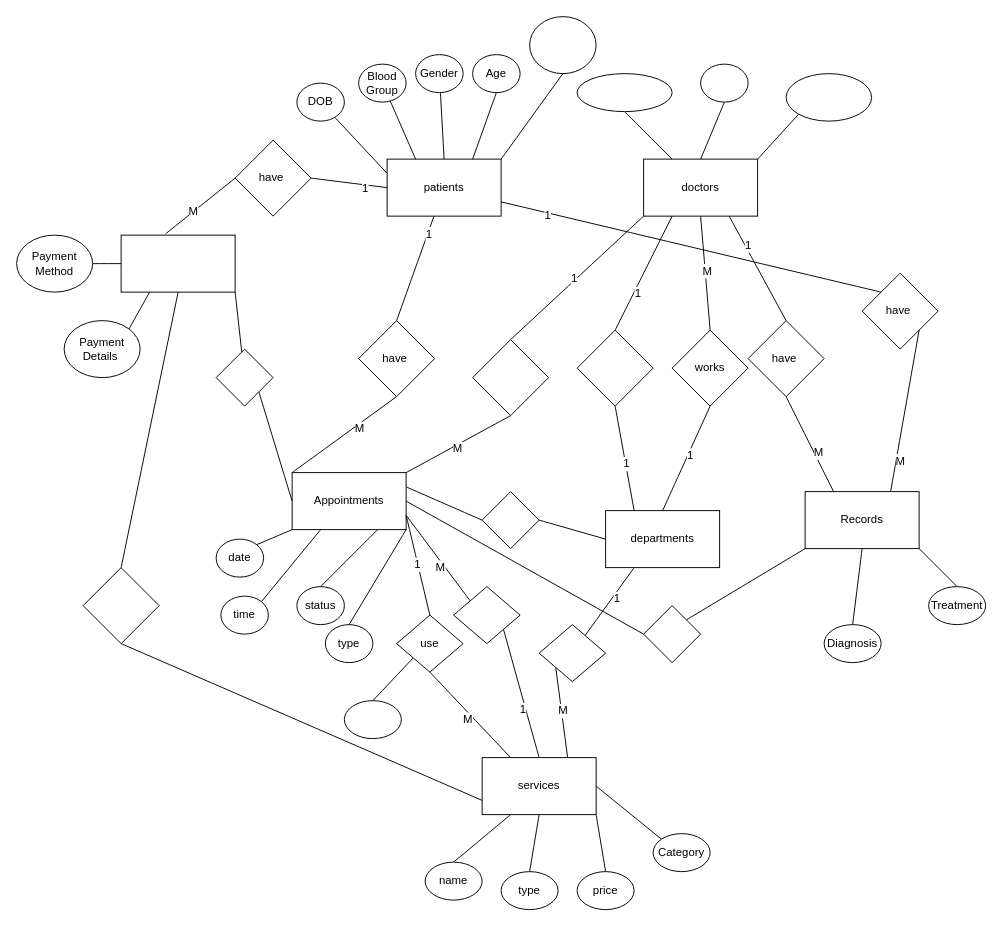
Some shapes in this 1002 by 926 pixel diagram are drawn without their labels. The box of each missing label's shape, as (x1, y1, x2, y2) in pixels:
Apear: (453, 586, 520, 644)
Bills: (120, 234, 235, 292)
Calculates: (82, 567, 159, 644)
details: (700, 63, 748, 102)
handles: (472, 339, 549, 416)
include: (481, 491, 539, 549)
Insurance Type: (529, 16, 596, 74)
Linked: (215, 348, 273, 406)
Manage: (576, 329, 653, 406)
offers: (538, 624, 606, 682)
result: (643, 605, 701, 663)
Schedule: (785, 73, 872, 121)
specialization: (576, 73, 672, 112)
Times Used: (343, 700, 401, 739)
